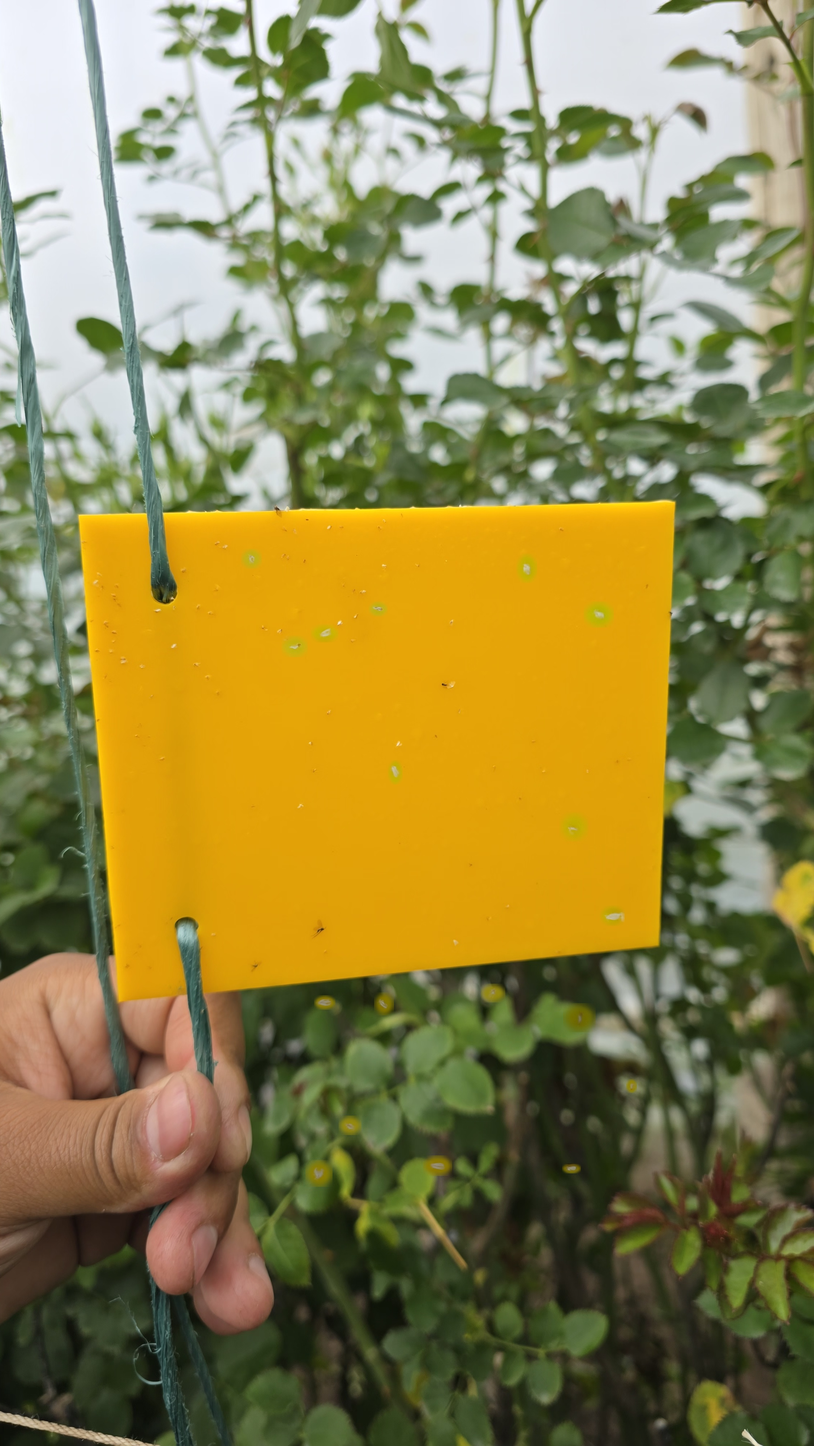WF: (568, 1008, 591, 1028), (564, 817, 584, 837), (588, 605, 609, 624), (309, 1164, 328, 1182), (427, 1158, 447, 1173), (519, 558, 534, 578), (285, 639, 304, 654), (604, 908, 621, 923), (484, 986, 501, 1000), (315, 627, 334, 639), (342, 1118, 358, 1132), (377, 996, 391, 1012), (244, 552, 258, 565), (317, 997, 332, 1008), (390, 764, 400, 780), (371, 604, 385, 614), (565, 1164, 578, 1172), (627, 1081, 635, 1091), (448, 681, 456, 690), (451, 939, 460, 946), (171, 643, 179, 650), (395, 741, 403, 748), (297, 804, 306, 810), (337, 620, 344, 627), (93, 579, 100, 585), (155, 609, 162, 615), (326, 525, 333, 531), (354, 613, 359, 620), (361, 590, 368, 594), (382, 564, 387, 568)
